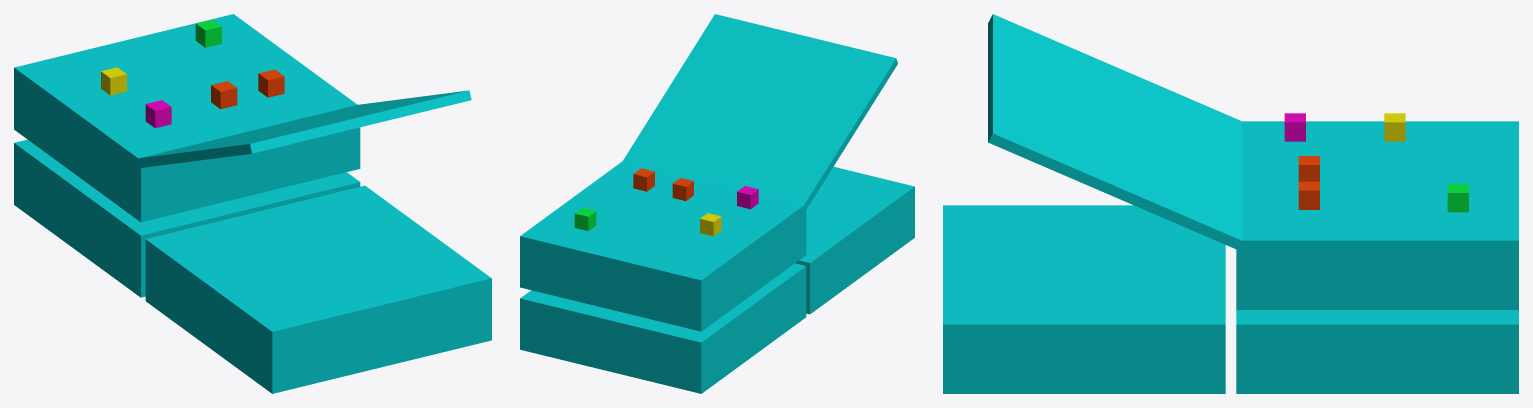
The model's file is OssianOrder.fbx.
3 views of the same model, side by side, from view 1: azimuth 30°, elevation 25°; view 2: azimuth 150°, elevation 25°; view 3: azimuth 270°, elevation 25° (orthographic). The views are drawn at different scales.
Parts seen in each view (by area): view 1: pCube5, pCube1, pCube4, ramp, pCube3, pCube2, pCube6, pCube8, pCube7; view 2: ramp, pCube1, pCube4, pCube5, pCube2, pCube3, pCube7, pCube8, pCube6; view 3: pCube5, pCube1, ramp, pCube4, pCube7, pCube8, pCube2, pCube3, pCube6.
Boxes of the visible parts, x1,y1,x2,y2 form: pCube5: (145,185,491,393); pCube1: (14,14,360,222); pCube4: (14,139,360,297); ramp: (136,90,471,168); pCube3: (258,69,284,97); pCube2: (195,19,221,47); pCube6: (211,81,237,109); pCube8: (145,100,171,128); pCube7: (101,67,126,95); ramp: (623,14,897,213); pCube1: (520,161,806,331); pCube4: (520,263,806,393); pCube5: (795,166,914,314); pCube2: (574,208,596,231); pCube3: (633,168,654,191); pCube7: (700,213,721,236); pCube8: (737,186,758,209); pCube6: (672,178,693,200); pCube5: (943,205,1225,393); pCube1: (1236,121,1518,309); ramp: (988,14,1247,251); pCube4: (1236,310,1518,393); pCube7: (1384,113,1405,141); pCube8: (1284,113,1305,141); pCube2: (1447,184,1468,212); pCube3: (1298,181,1319,209); pCube6: (1298,156,1319,181).
Bounding box in the file's own units: 13.25 × 13.48 × 26.99.
